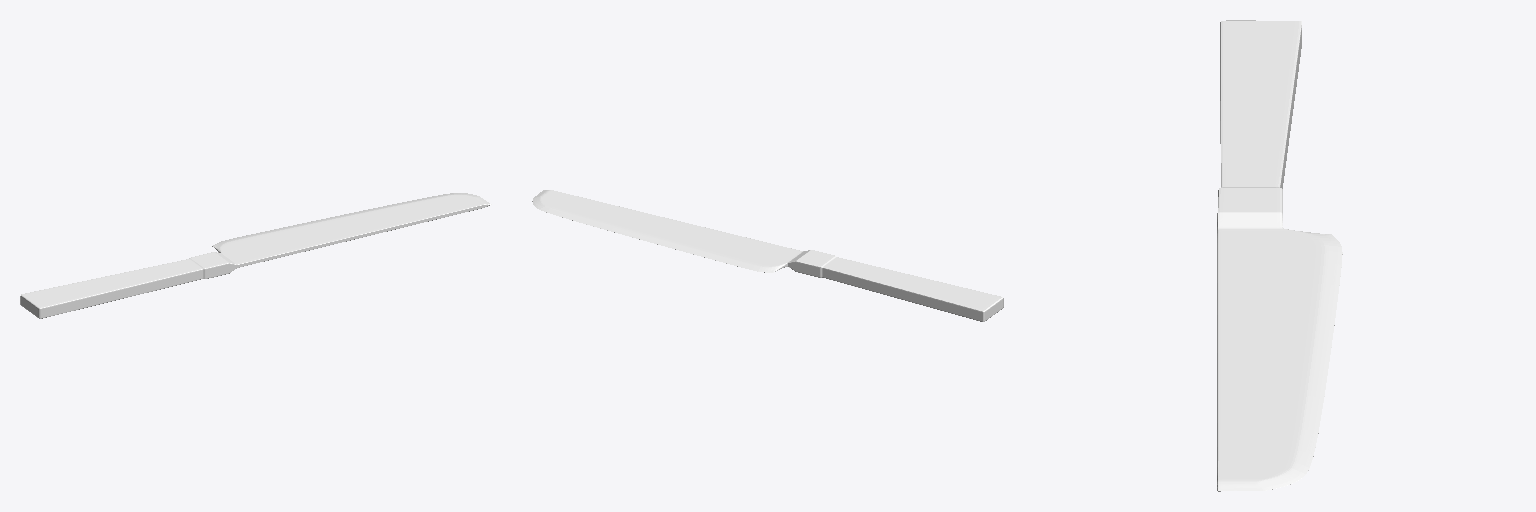
The robot description file, URDF, robot "knife":
<?xml version="1.0" ?>
<robot name="knife">
  <link name="baseLink">
    <contact>
      <lateral_friction value="1.0"/>
      <rolling_friction value="0.1"/>
      <contact_cfm value="1.0"/>
      <contact_erp value="1.0"/>
    </contact>
    <inertial>
      <origin rpy="0 0 0" xyz="-0.005 0 0"/>
      <mass value="0.048"/>
       <inertia ixx="1" ixy="0" ixz="0" iyy="1" iyz="0" izz="1"/>
    </inertial>
    <visual>
      <origin rpy="1.57 0 0" xyz="0 0.03 0"/>
      <geometry>
	      <mesh filename="knife.obj" scale="0.02 0.02 0.02"/>
      </geometry>
       <material name="white">
        <color rgba="1 1 1 1"/>
      </material>
    </visual>
    <collision>
      <origin rpy="1.57 0 0" xyz="0 0.03 0"/>
      <geometry>
	 	<mesh filename="knife.obj" scale="0.02 0.02 0.02"/>
      </geometry>
    </collision>
  </link>
</robot>

--- Facts derived from the render (not from the file) ---
3 views of the same robot in one strip: view 1: azimuth 30°, elevation 25°; view 2: azimuth 150°, elevation 25°; view 3: azimuth 270°, elevation 25° (orthographic).
Robot: knife — 1 links, 0 joints (none); root link baseLink; default pose: all joints at 0.
Visible links, largest first — view 1: baseLink; view 2: baseLink; view 3: baseLink.
Link boxes in pixels (bbox=[...]): baseLink: bbox=[20, 193, 491, 318]; baseLink: bbox=[532, 190, 1003, 321]; baseLink: bbox=[1217, 20, 1342, 491].
Size in the robot's own frame: 0.4608 by 0.053 by 0.0108 metres.
Meshes: 1 distinct files referenced, 1 mesh visuals loaded (1 OBJ).